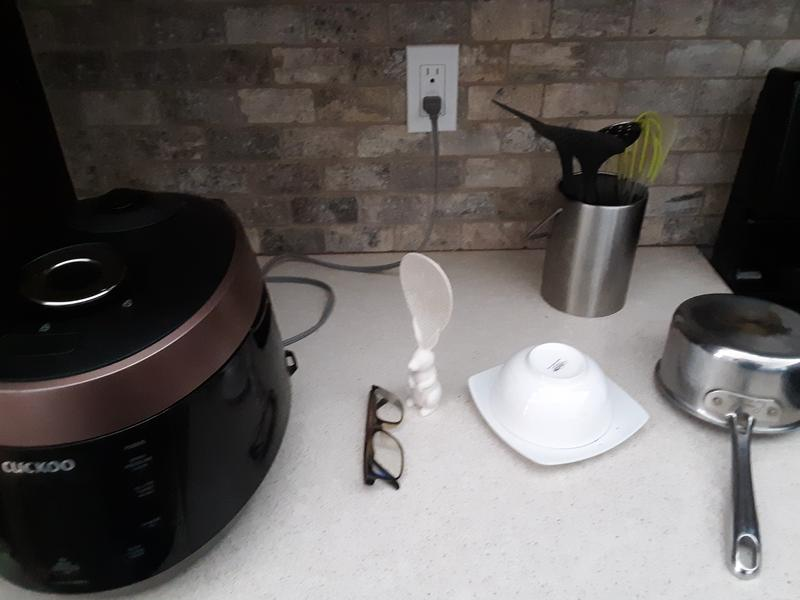glasses: (362, 382, 405, 491)
